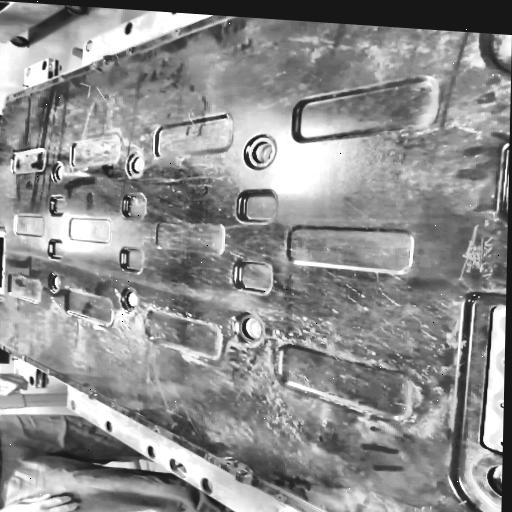b_casing: (0, 10, 512, 512)
